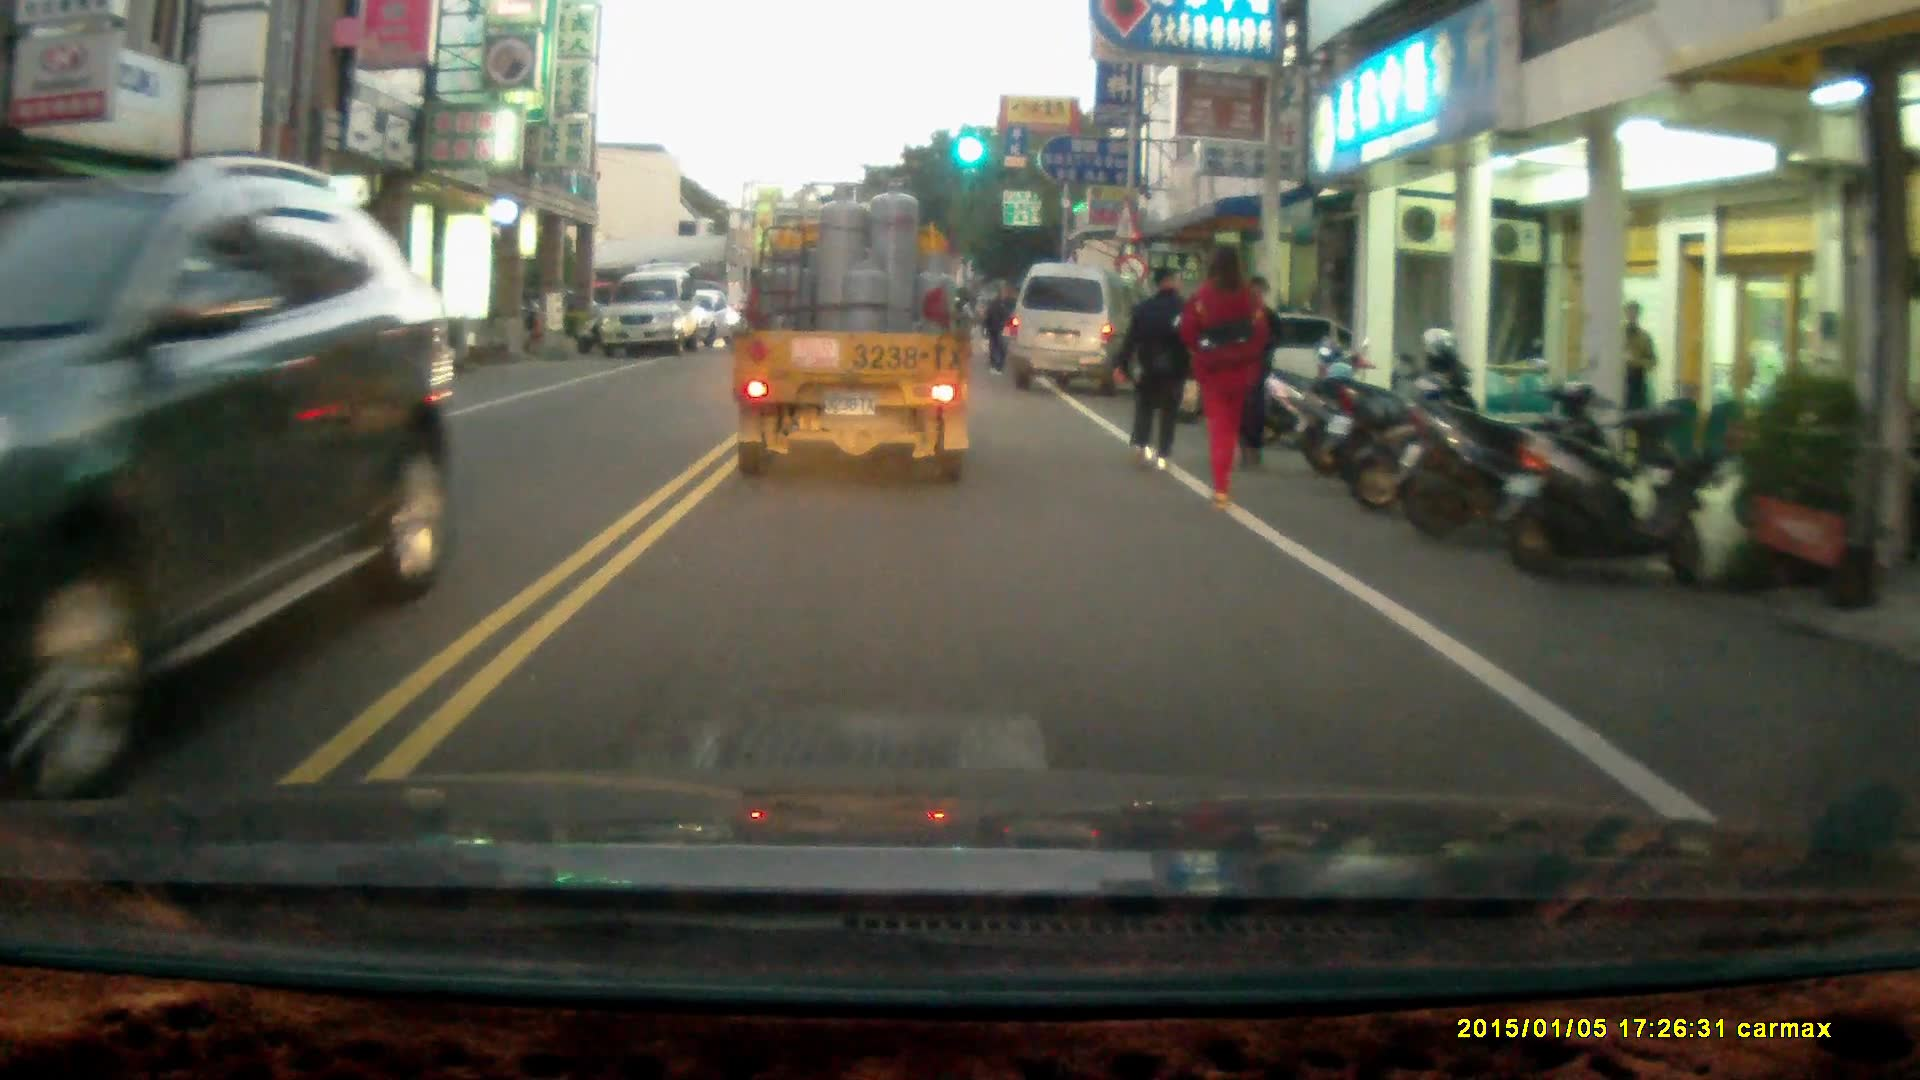pedestrian: (1182, 240, 1268, 516), (1121, 260, 1202, 469), (1616, 297, 1660, 452), (983, 286, 1017, 373)
vehicle: (1, 138, 466, 767), (726, 185, 981, 499), (175, 290, 450, 410), (1013, 262, 1148, 398), (601, 271, 712, 358)
